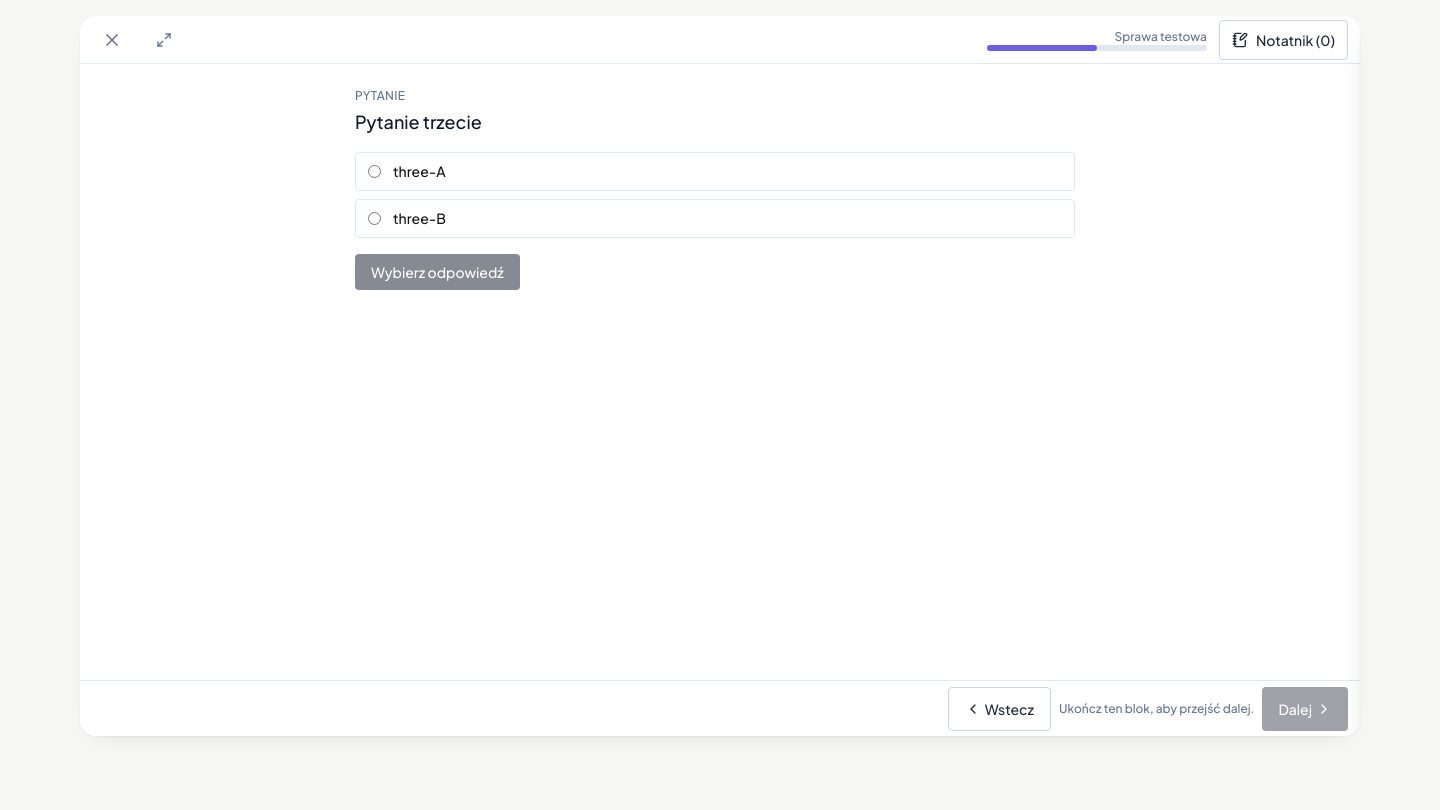
Test: CoursePlayer: powłoka (postęp, nawigacja, notatnik, lektor) › Wstecz / Dalej (podgląd tylko do odczytu) › podgląd ukończonego bloku z wynikiem; brak formularza; Dalej wraca do bieżącego bloku; fokus na nagłówku sceny
The image size is (1440, 810).
Click the button "Wstecz": (999, 708) [948,686,1051,730]
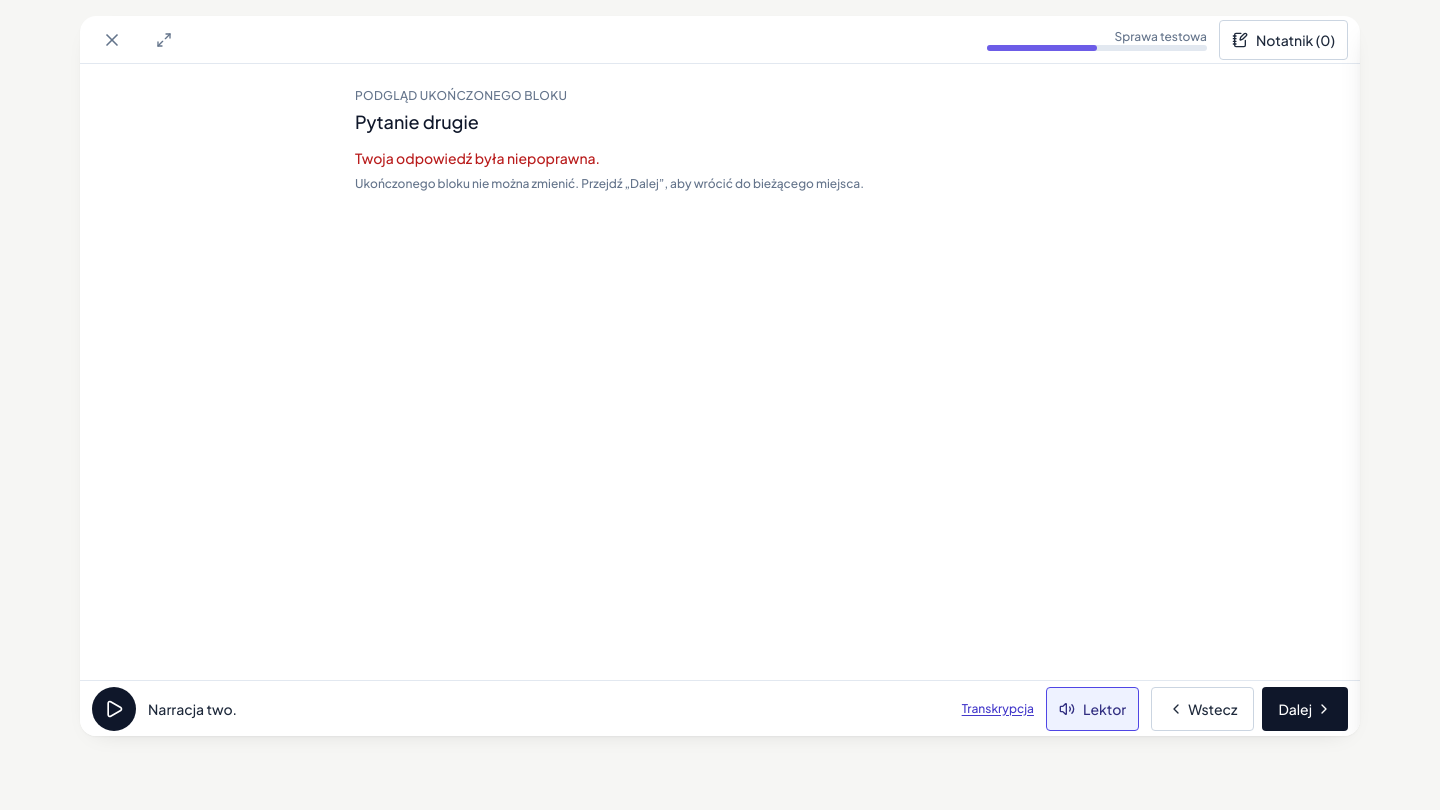
Expected: the element with test id "review-block" is shown, [355,88,864,191]
Expected: the text "Pytanie drugie" is shown, [355,110,479,133]
Expected: the text "Twoja odpowiedź była niepoprawna." is shown, [355,149,600,167]
Click the button "Dalej": (1305, 708) [1262,686,1348,730]
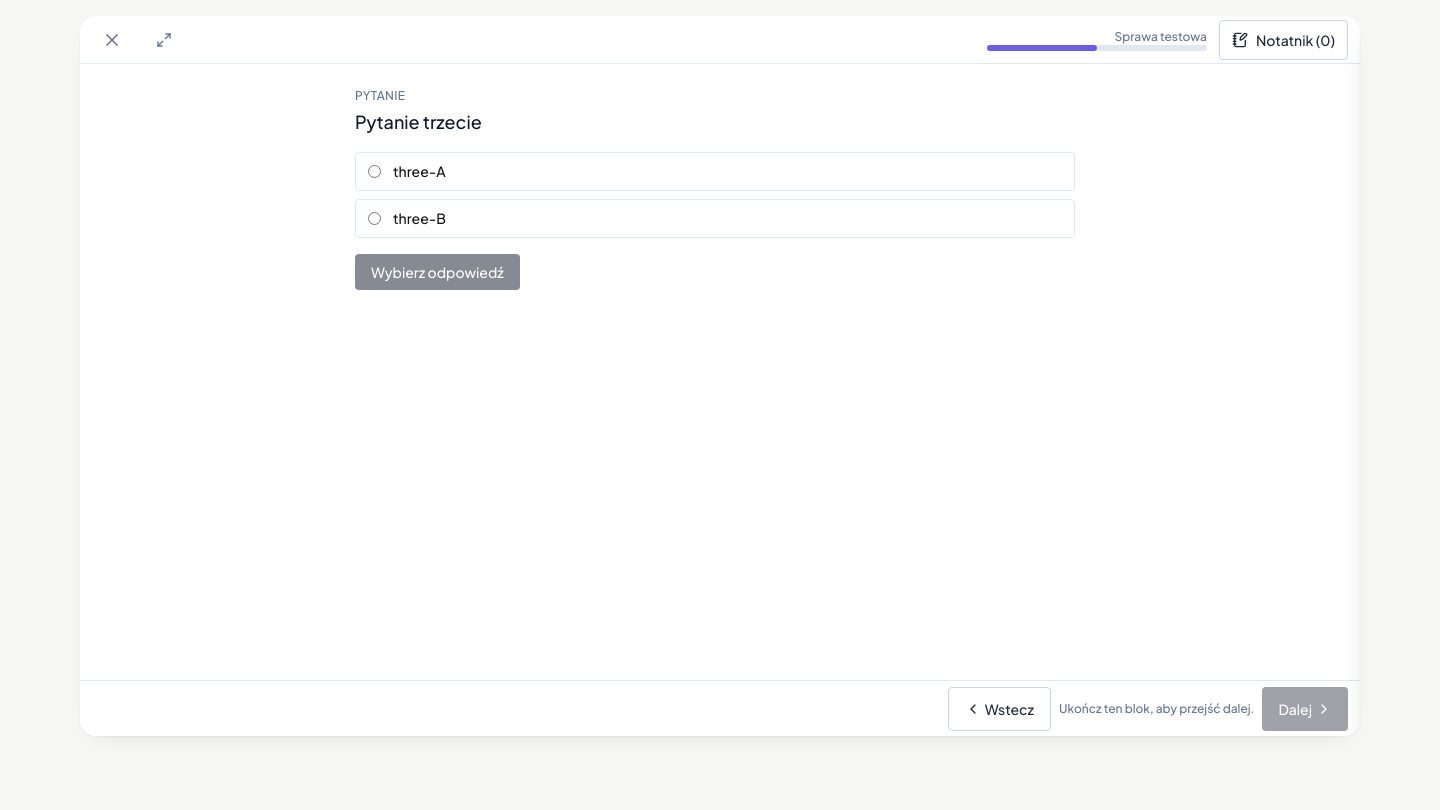
Expected: the element with test id "review-block" is gone
Expected: the text "Pytanie trzecie" is shown, [355,110,482,133]
